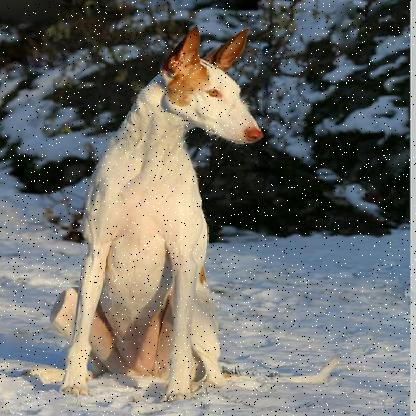dog: (59, 27, 297, 393)
